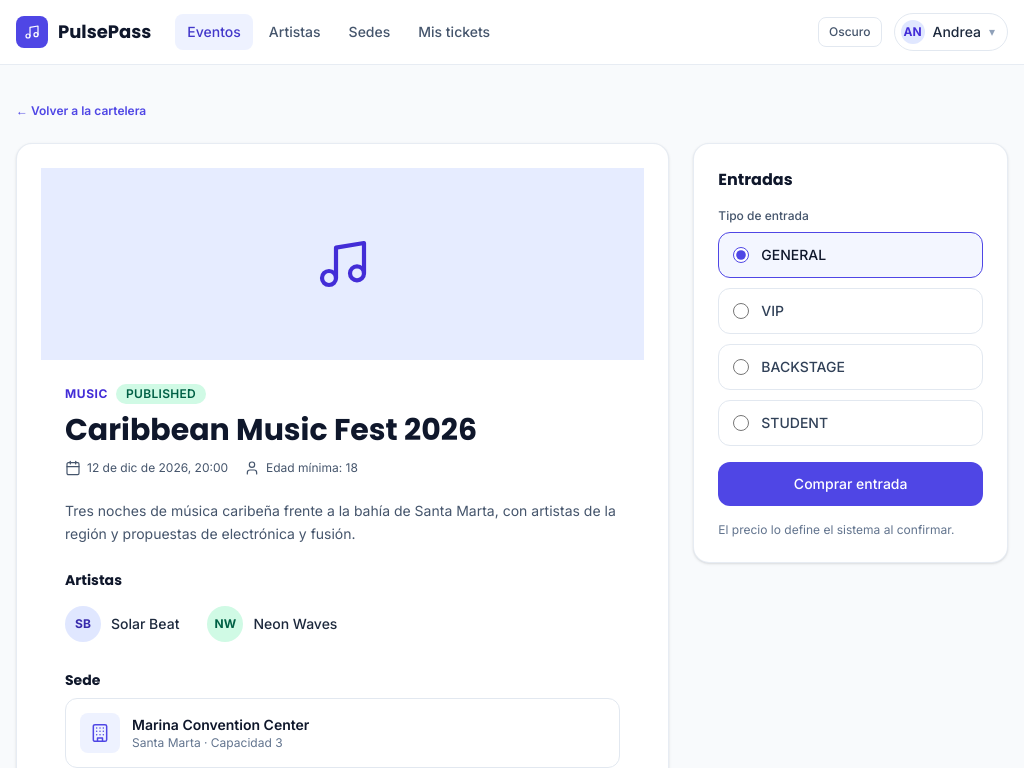
Test: 21.4 Tickets (TEST-FE-TKT-*) › TEST-FE-TKT-001 y TEST-FE-TKT-004: compra válida envía el email de la sesión, responde 201 y navega a confirmación
Expected: the heading "Caribbean Music Fest 2026" is shown, x1=65 y1=409 x2=477 y2=451
Click the radio button labelled "VIP".
click(741, 311)  # box x1=733 y1=303 x2=749 y2=319
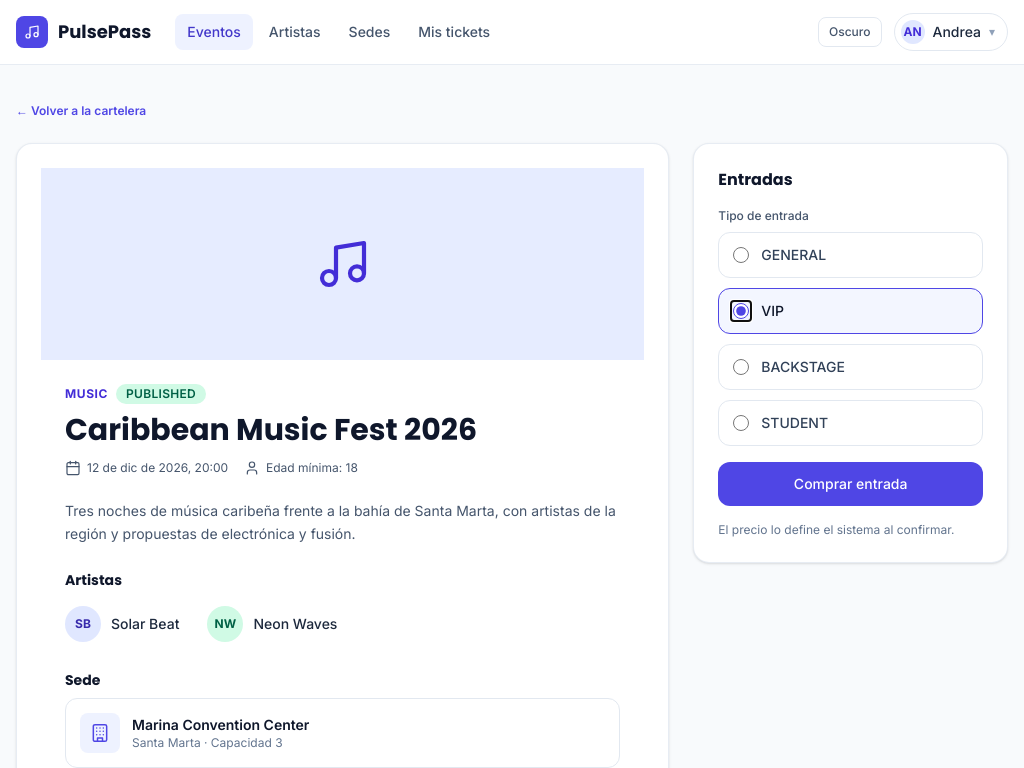
Click the button "Comprar entrada".
click(851, 484)  # box x1=718 y1=462 x2=983 y2=506
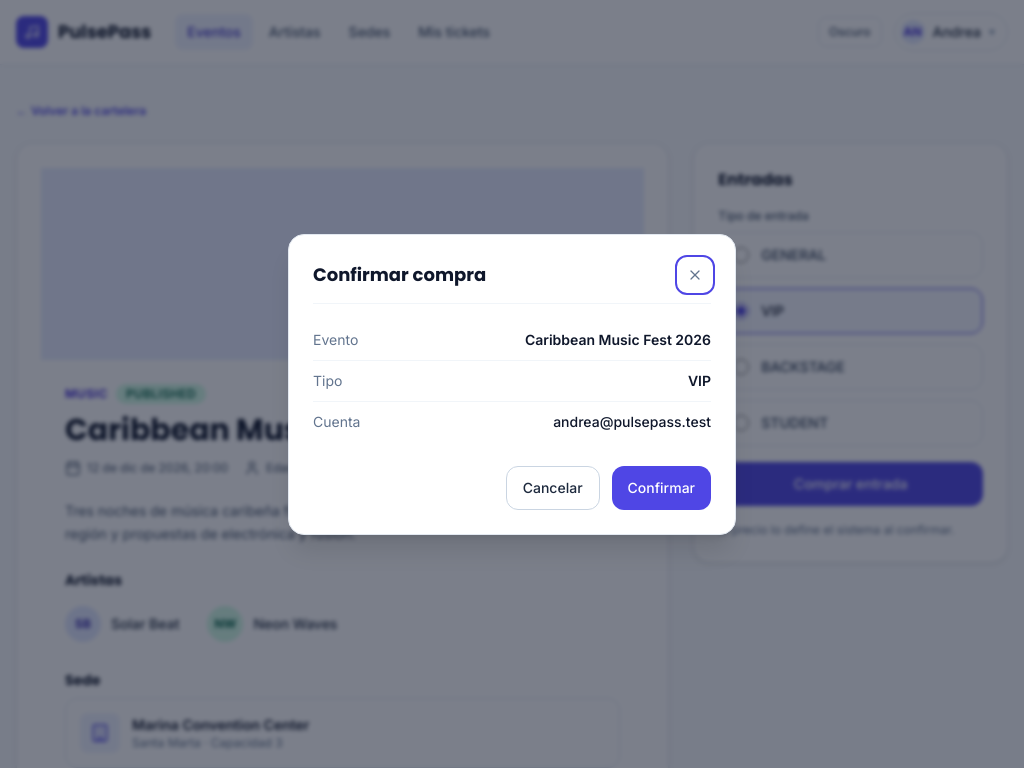
Click the button "Confirmar".
click(661, 488)  # box x1=612 y1=466 x2=711 y2=510
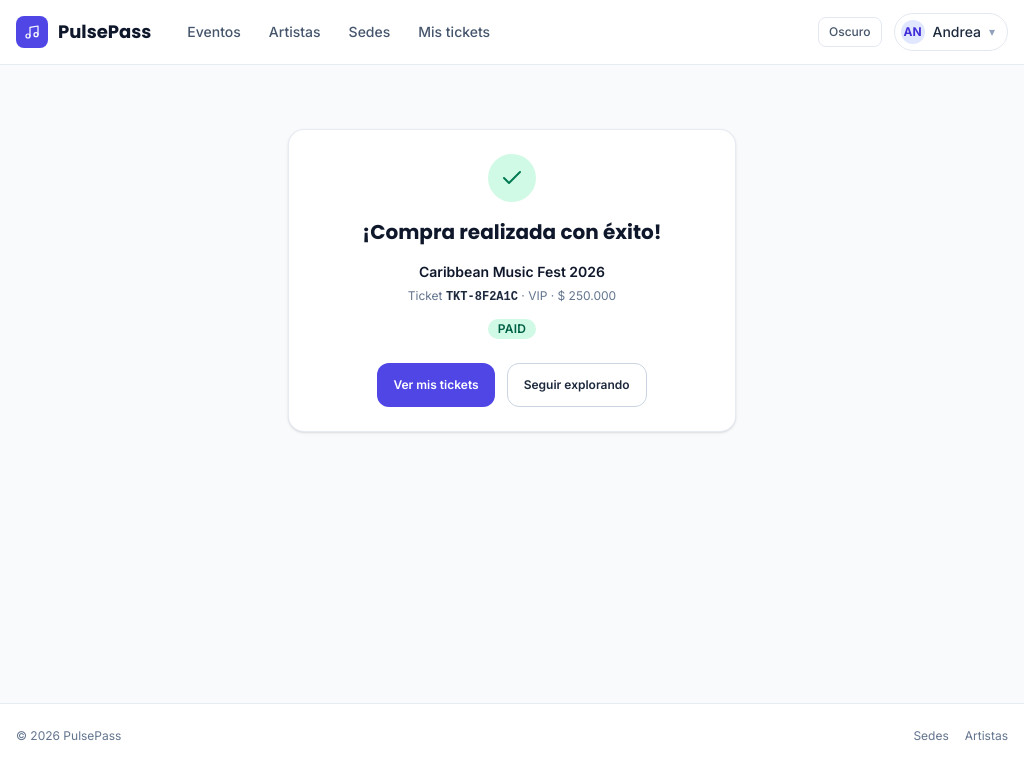
Now the heading "¡Compra realizada con éxito!" is shown, box x1=362 y1=218 x2=662 y2=246
